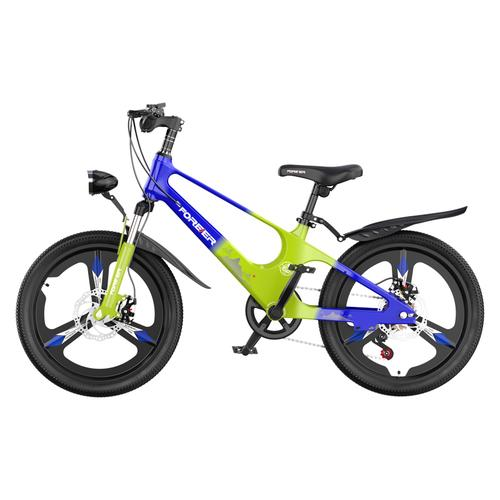单车: (4, 91, 494, 409)
